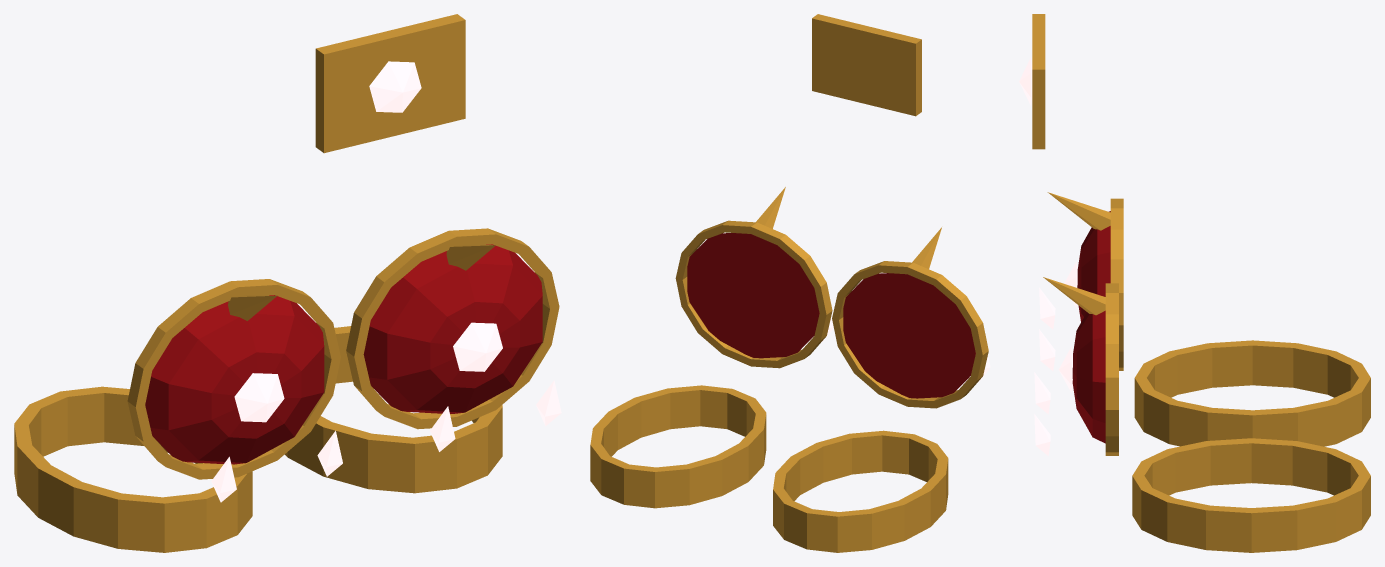
The model's file is armor_guard_legs_mythic_orc.glb.
3 renders of one model, left to right at view 1: azimuth 30°, elevation 25°; view 2: azimuth 150°, elevation 25°; view 3: azimuth 270°, elevation 25°, orthographic. The views are drawn at different scales.
Parts seen in each view (by area): view 1: armor_guard_legs_mythic_orc__calf_r, armor_guard_legs_mythic_orc__calf_l, armor_guard_legs_mythic_orc__pelvis; view 2: armor_guard_legs_mythic_orc__calf_l, armor_guard_legs_mythic_orc__calf_r, armor_guard_legs_mythic_orc__pelvis; view 3: armor_guard_legs_mythic_orc__calf_l, armor_guard_legs_mythic_orc__calf_r, armor_guard_legs_mythic_orc__pelvis.
Boxes of the visible parts, left/top/right/bottom form: armor_guard_legs_mythic_orc__calf_r: left=14, top=279, right=342, bottom=552; armor_guard_legs_mythic_orc__calf_l: left=285, top=228, right=561, bottom=493; armor_guard_legs_mythic_orc__pelvis: left=315, top=14, right=465, bottom=153; armor_guard_legs_mythic_orc__calf_l: left=590, top=187, right=833, bottom=508; armor_guard_legs_mythic_orc__calf_r: left=773, top=227, right=990, bottom=552; armor_guard_legs_mythic_orc__pelvis: left=812, top=14, right=921, bottom=116; armor_guard_legs_mythic_orc__calf_l: left=1034, top=277, right=1370, bottom=552; armor_guard_legs_mythic_orc__calf_r: left=1039, top=192, right=1370, bottom=446; armor_guard_legs_mythic_orc__pelvis: left=1019, top=14, right=1045, bottom=149.
Bounding box in the file's own units: 37.24 × 42.7 × 32.06.
